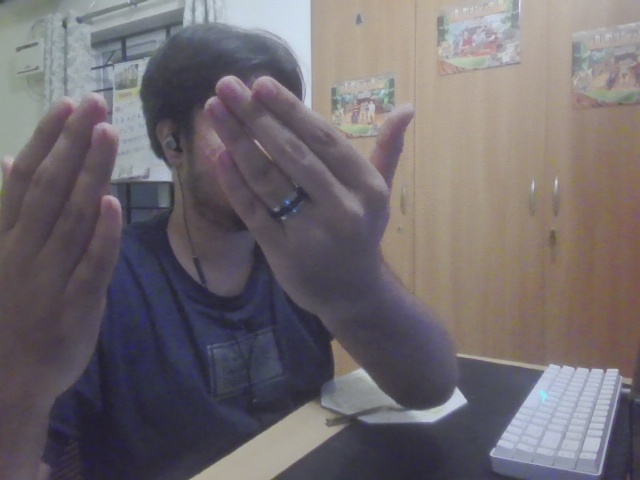thankyou: (2, 73, 422, 390)
